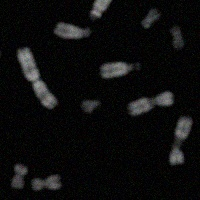chromosome: (17, 46, 57, 109), (129, 90, 174, 115), (169, 114, 191, 165), (100, 61, 141, 77), (54, 22, 89, 39), (31, 174, 62, 191), (90, 0, 118, 18), (141, 8, 161, 31), (11, 164, 27, 192), (169, 25, 184, 50), (82, 98, 102, 114)
